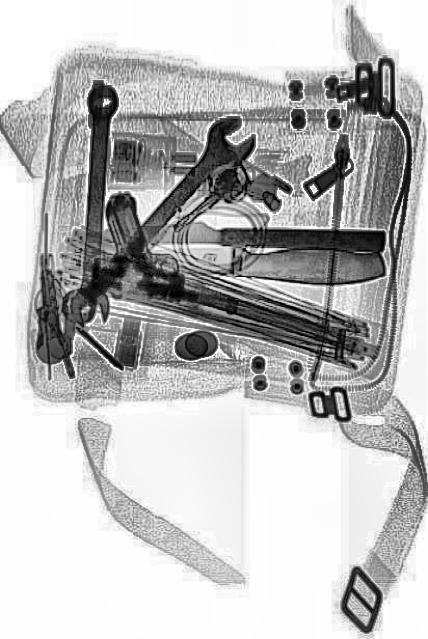Gun: (94, 186, 244, 322)
Knife: (126, 239, 384, 287), (102, 218, 382, 250)
Wrench: (48, 101, 259, 344), (68, 81, 122, 327)
